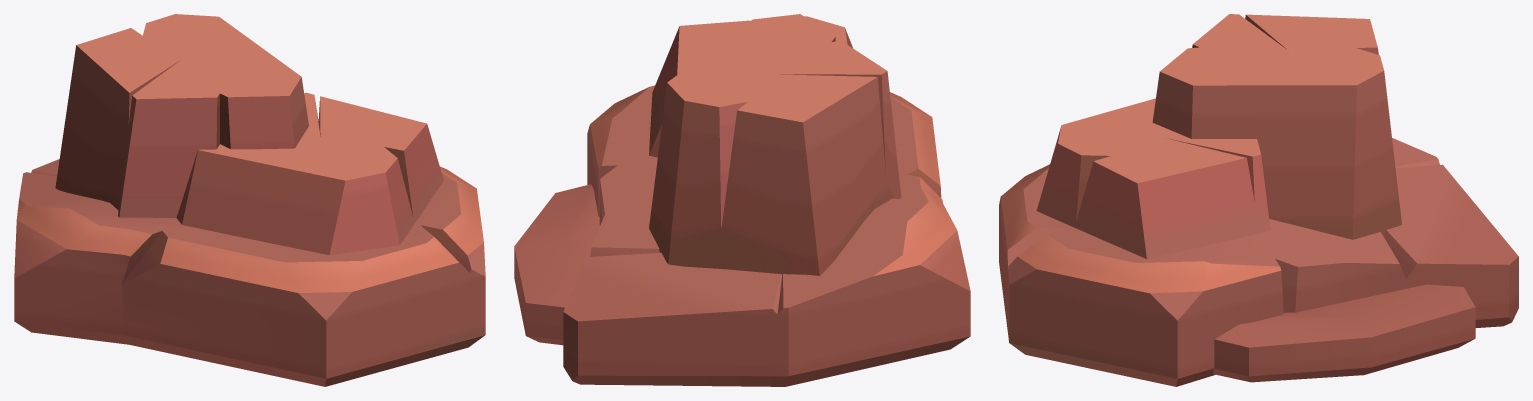
The model's file is Rock.fbx.
3 views of the same model, side by side, from view 1: azimuth 30°, elevation 25°; view 2: azimuth 150°, elevation 25°; view 3: azimuth 270°, elevation 25° (orthographic). The views are drawn at different scales.
Parts seen in each view (by area): view 1: Rock; view 2: Rock; view 3: Rock.
Part boxes in pixels (x1,y1,x2,y2): Rock: (14,14,485,386); Rock: (514,14,970,386); Rock: (999,14,1518,386).
Size of the model in its own units: 35.32 by 19.35 by 38.55.
